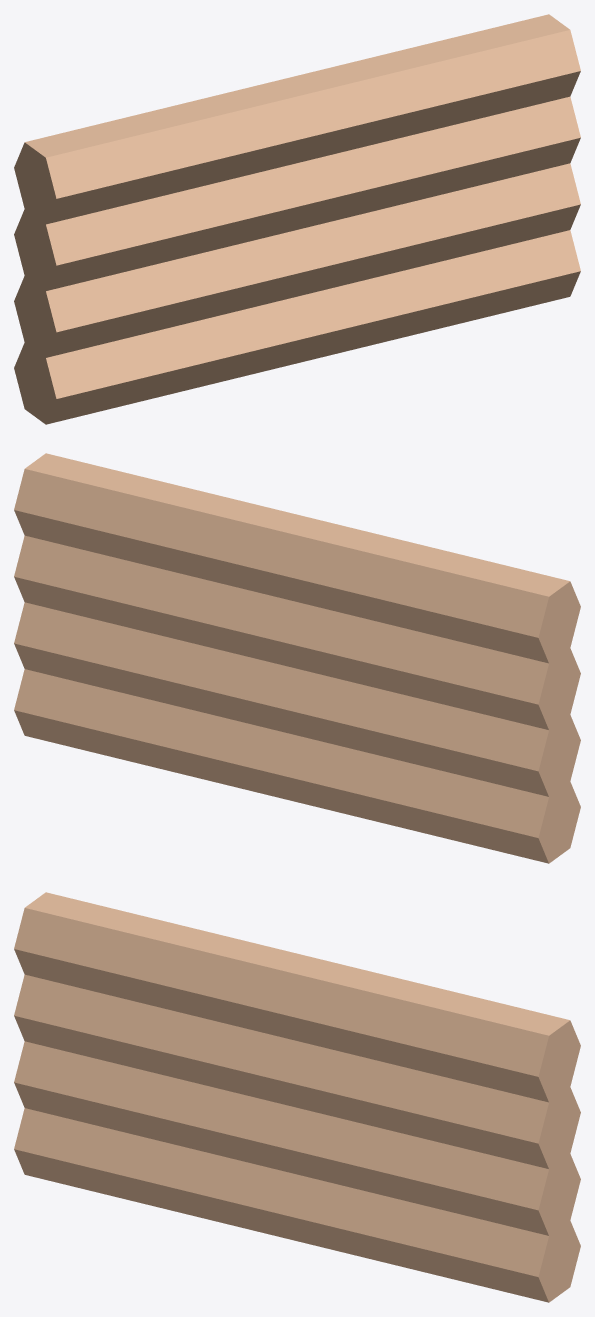
File: cabinWallHalf.glb
The picture shows the model from 3 angles, top to bottom: view 1: azimuth 30°, elevation 25°; view 2: azimuth 150°, elevation 25°; view 3: azimuth 330°, elevation 25°; orthographic projection.
Parts seen in each view (by area): view 1: cabinWallHalf(Clone); view 2: cabinWallHalf(Clone); view 3: cabinWallHalf(Clone).
Boxes of the visible parts, x1,y1,x2,y2 form: cabinWallHalf(Clone): (14,14,580,424); cabinWallHalf(Clone): (14,453,580,863); cabinWallHalf(Clone): (14,892,580,1302).
Size of the model in its own units: 1 by 0.4864 by 0.1404.
